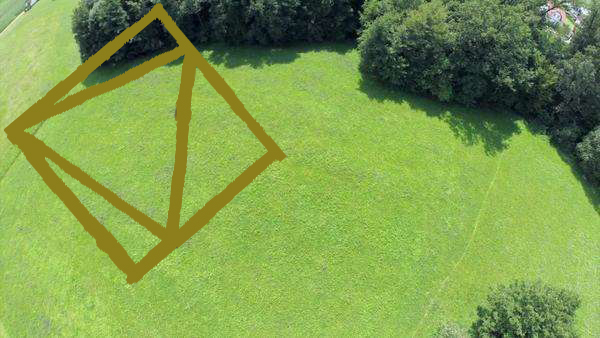marker: (2, 2, 291, 292)
